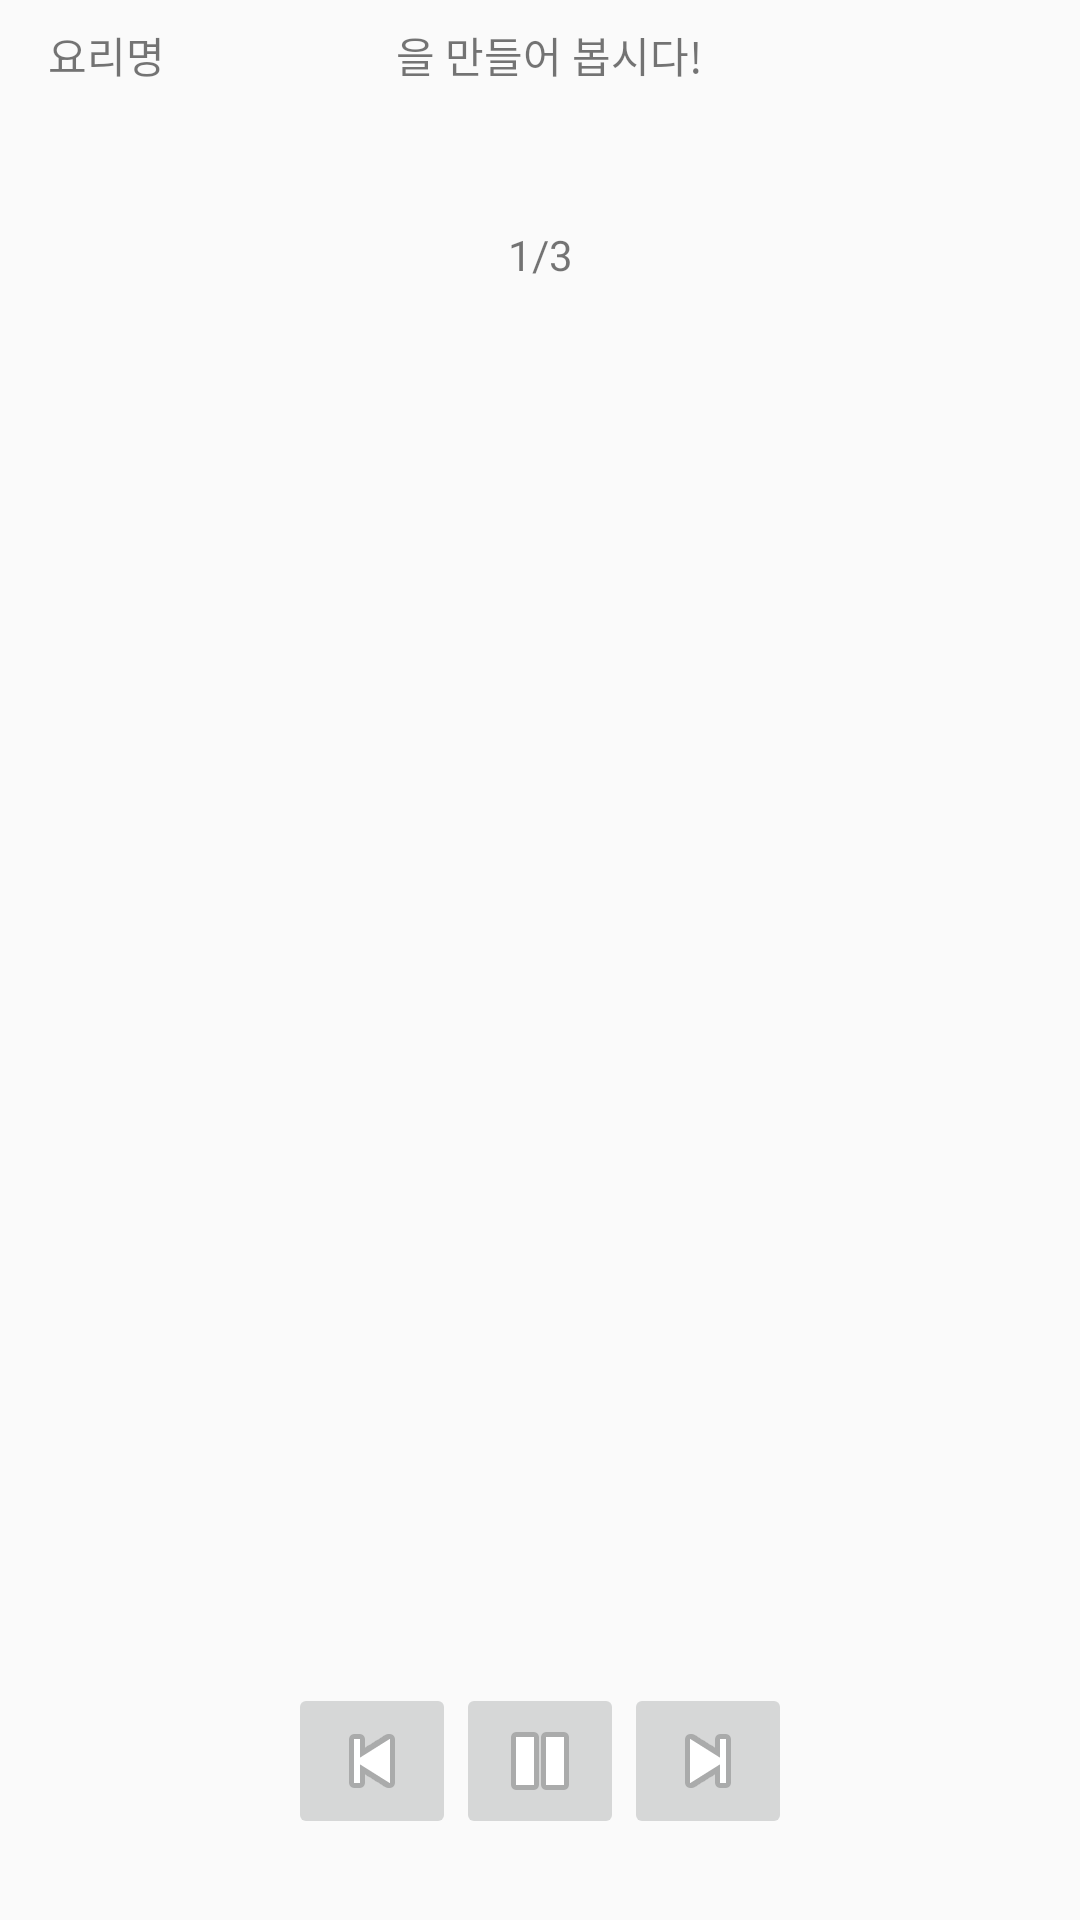

Named icons in this screenshot (1080 x 1920) and their centers, (x,y):
next: (708,1761)
pause: (540,1761)
previous: (372,1761)
